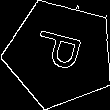P_E: (29, 30, 90, 79)
